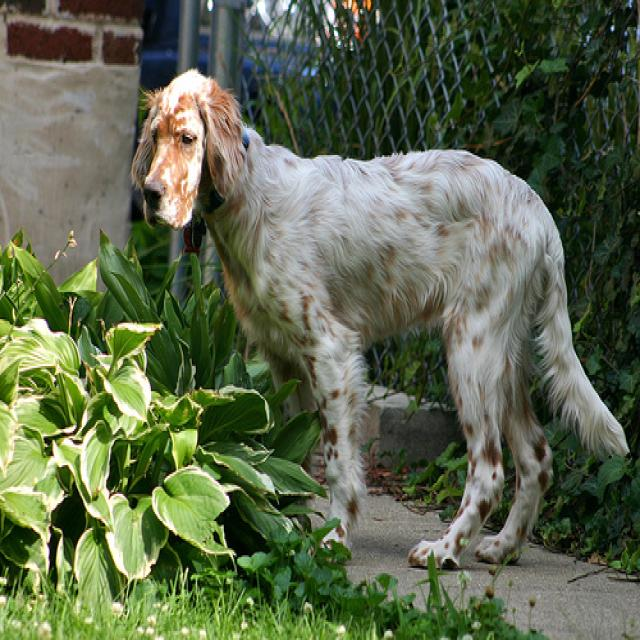dog-english_setter: (116, 52, 637, 579)
